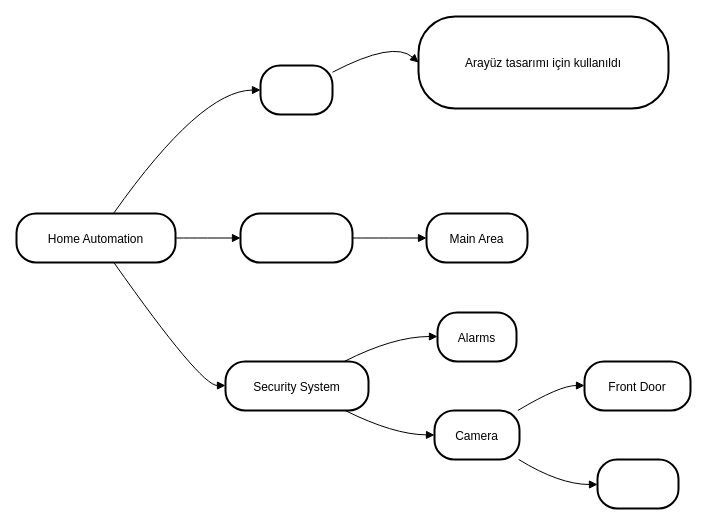
Image size: 707x525. Some labels were removed from this diagram. The shapes that lost their labels are listed below. From the top down, each one's centre as x and y in pixels, then its label:
the point at 296,89: Tkinter
the point at 296,237: Thermostat
the point at 637,483: Garage
